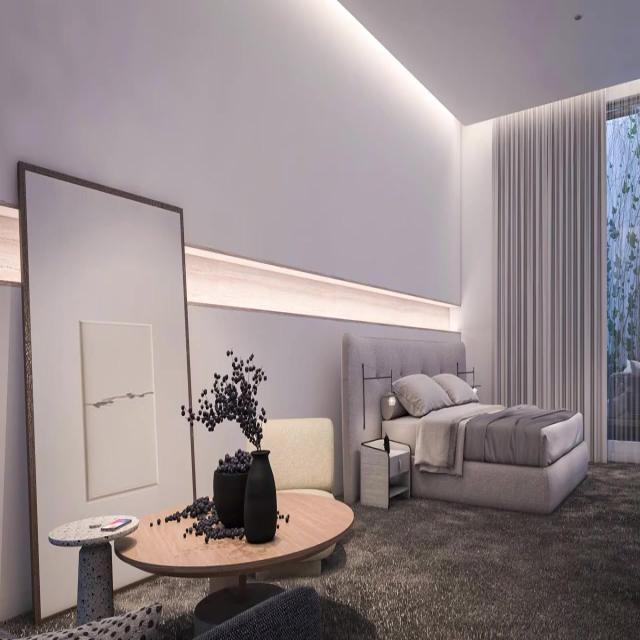obstacle: (342, 330, 588, 510), (113, 488, 354, 636), (51, 510, 136, 603), (360, 434, 413, 510)
